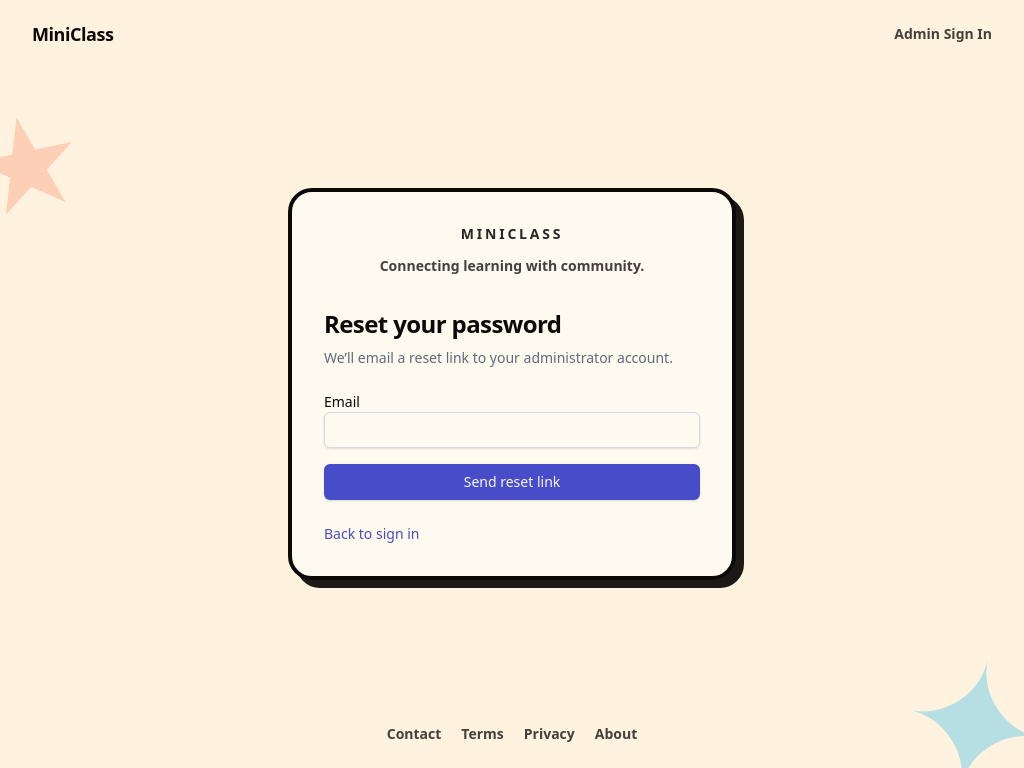
Test: reset-password page authentication paths › keeps the reset form and success response on the real Supabase path
Type "admin@example.test" into the field labelled "Email" at (512, 430), box [324,412,700,448]
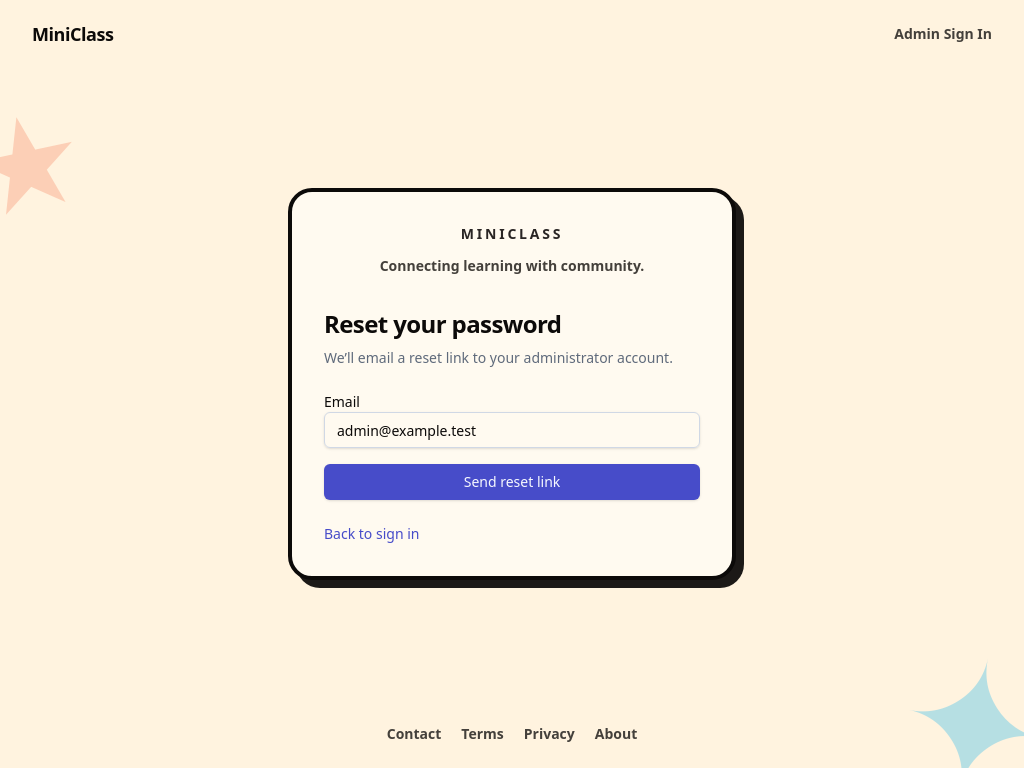
Click the button "Send reset link" at (512, 482), box [324,464,700,500]
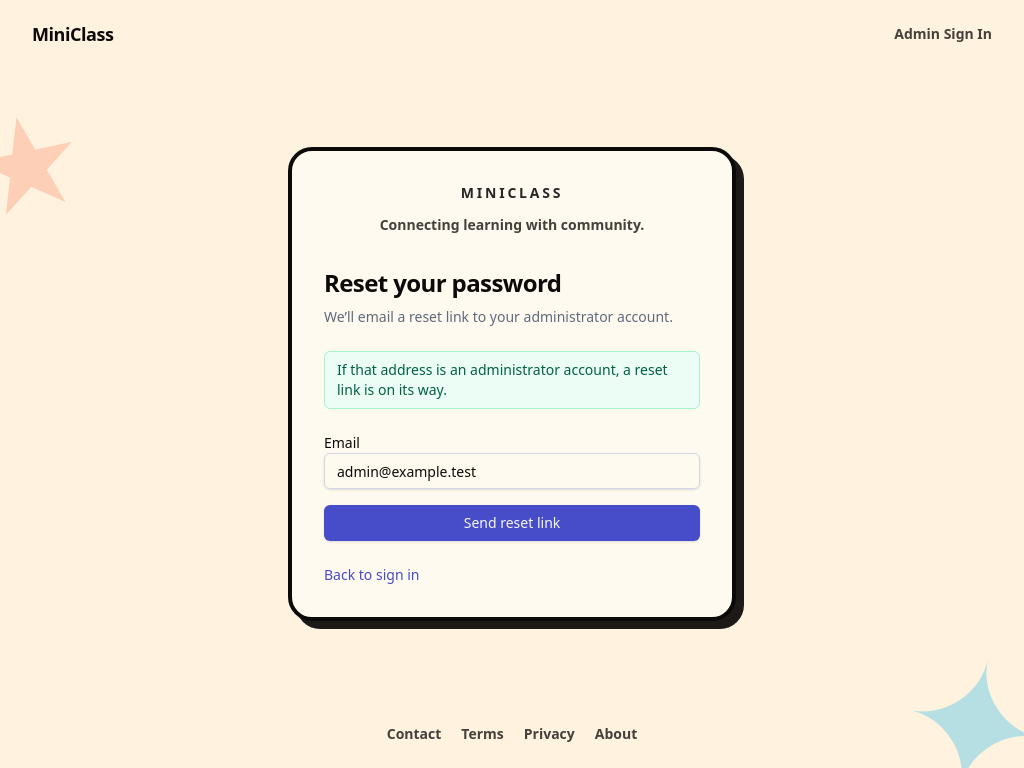
Result: the message shows "If that address is an administrator account" at [337,360,668,399]
